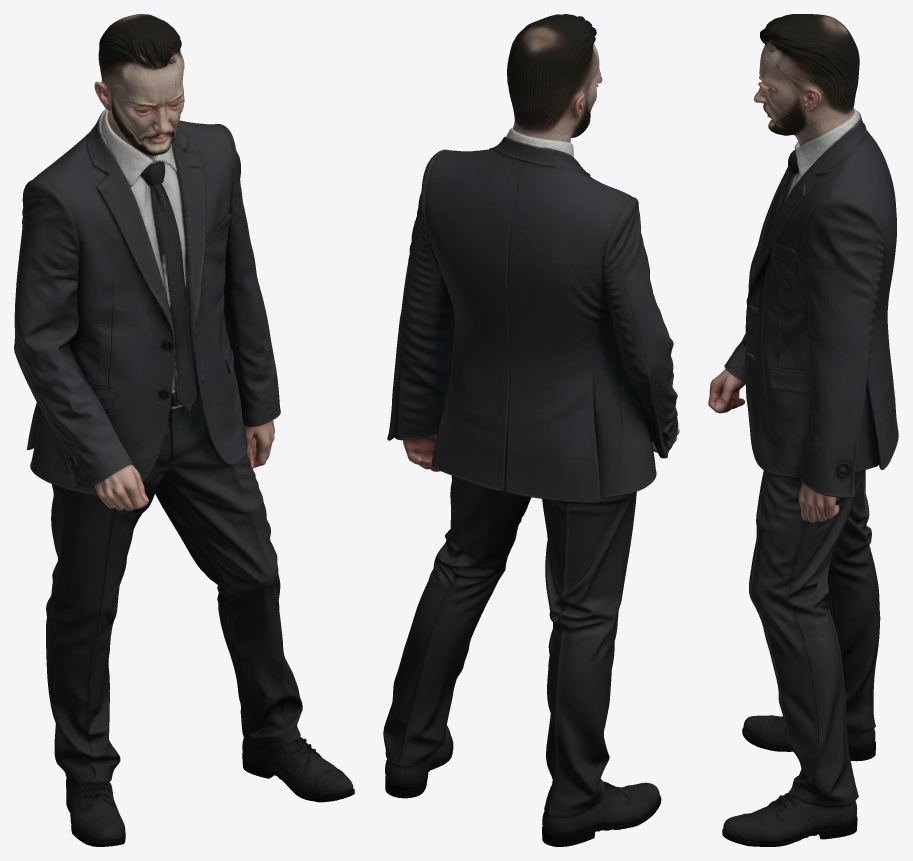
3 renders of one model, left to right at view 1: azimuth 30°, elevation 25°; view 2: azimuth 150°, elevation 25°; view 3: azimuth 270°, elevation 25°, orthographic. The views are drawn at different scales.
Parts seen in each view (by area): view 1: aiprintgen_0; view 2: aiprintgen_0; view 3: aiprintgen_0.
Part boxes in pixels (<box>): aiprintgen_0: <box>14,14,354,846</box>; aiprintgen_0: <box>383,14,679,846</box>; aiprintgen_0: <box>708,14,898,846</box>.
Size of the model in its own units: 0.3883 by 1 by 0.2302.
1 material, 1 textured.
